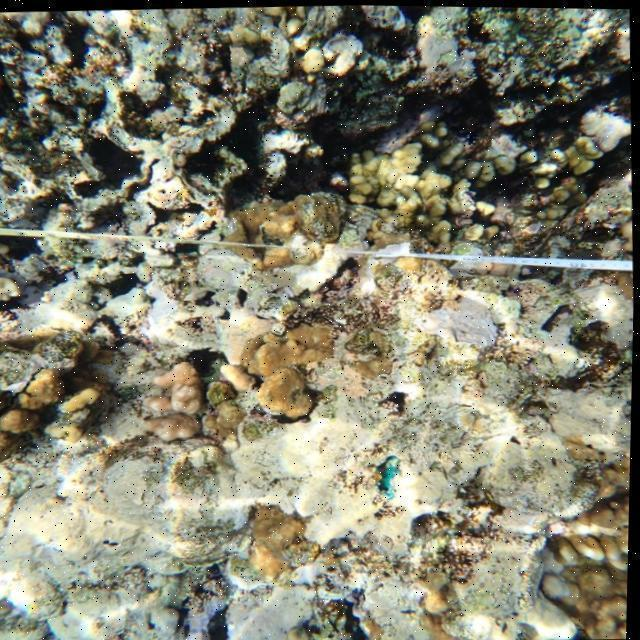Bleached Coral: (391, 274, 540, 373), (99, 265, 217, 375)
